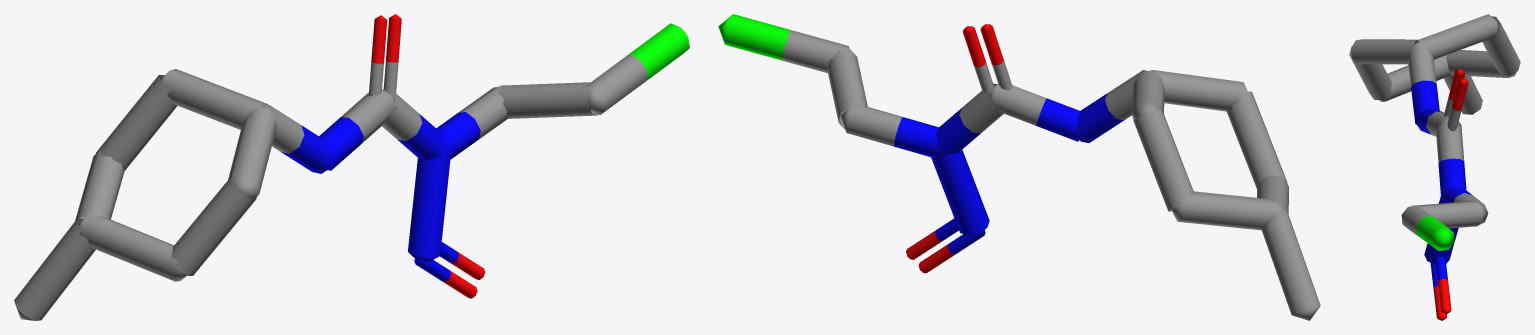
Rendered from methylccnu.glb.
3 renders of one model, left to right at view 1: azimuth 30°, elevation 25°; view 2: azimuth 150°, elevation 25°; view 3: azimuth 270°, elevation 25°, orthographic. The views are drawn at different scales.
Parts seen in each view (by area): view 1: node-geom4; view 2: node-geom4; view 3: node-geom4.
Part boxes in pixels (x1,y1,x2,y2): node-geom4: (14, 14, 689, 320); node-geom4: (718, 14, 1320, 320); node-geom4: (1349, 14, 1520, 320).
Size of the model in its own units: 11.08 by 4.73 by 3.3.
